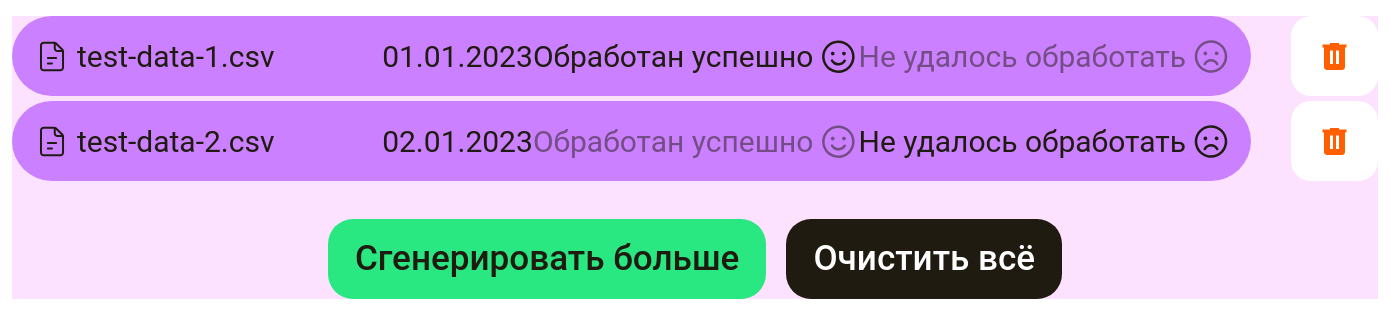
Test: Интеграционные тесты для HistoryPage › TC-HY-004: Полная очистка истории
The image size is (1390, 316).
Click the button with test id "clear-history-button".
click(924, 258)  # box x1=786 y1=218 x2=1062 y2=298
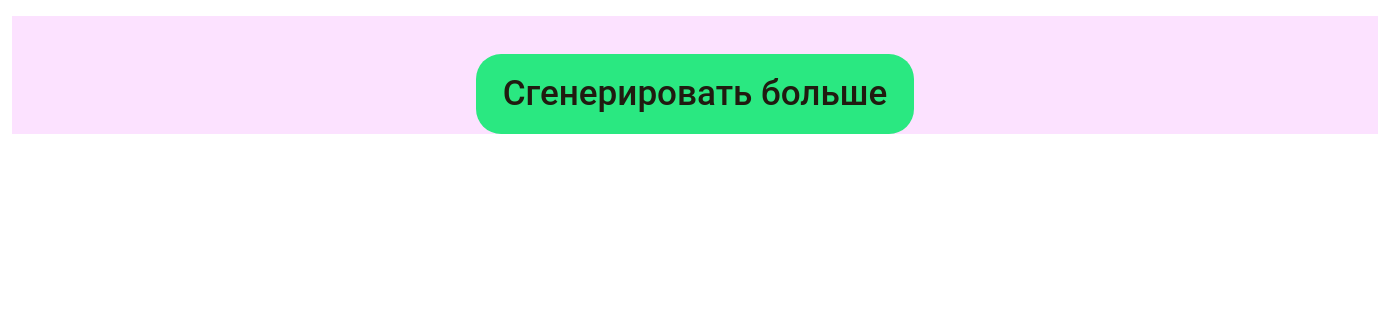
Check: the element with test id "history-item" is gone
Check: the button with test id "clear-history-button" is gone
